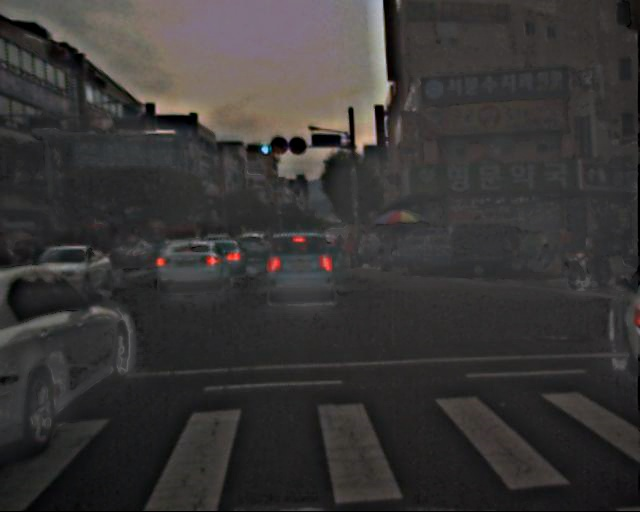person: (339, 228, 394, 272), (578, 233, 602, 292), (558, 224, 576, 269), (537, 232, 553, 272)
